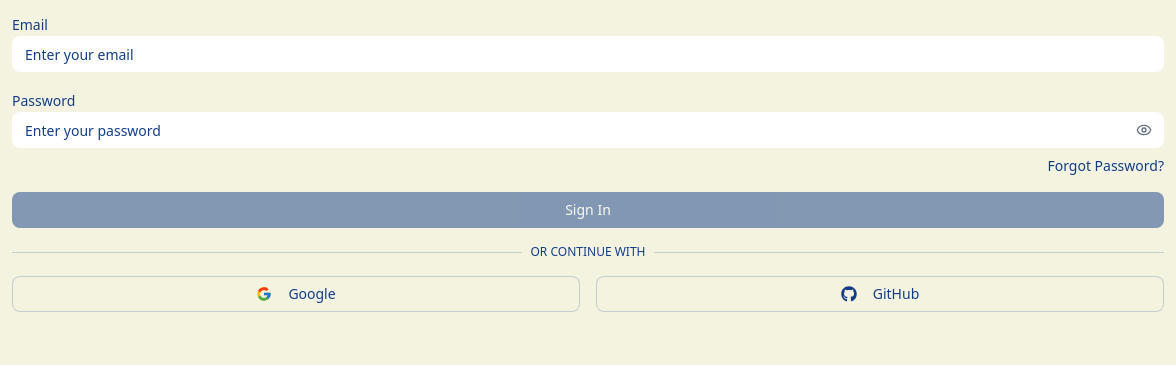
Test: LoginForm Component › failed login displays error message
Type "test@example.com" into the field with placeholder "Enter your email". click: (588, 54)
box: [12,36,1164,72]
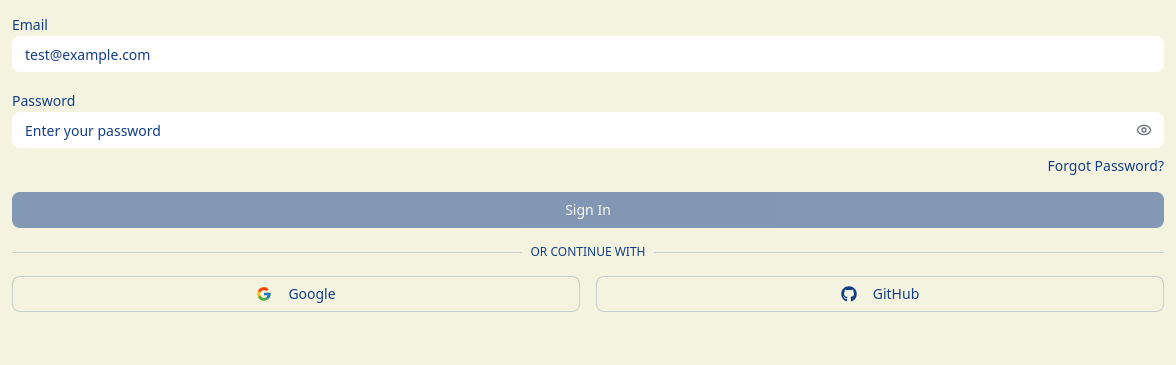
Type "wrongpassword" into the password field with placeholder "Enter your password". click: (588, 130)
box: [12,112,1164,148]
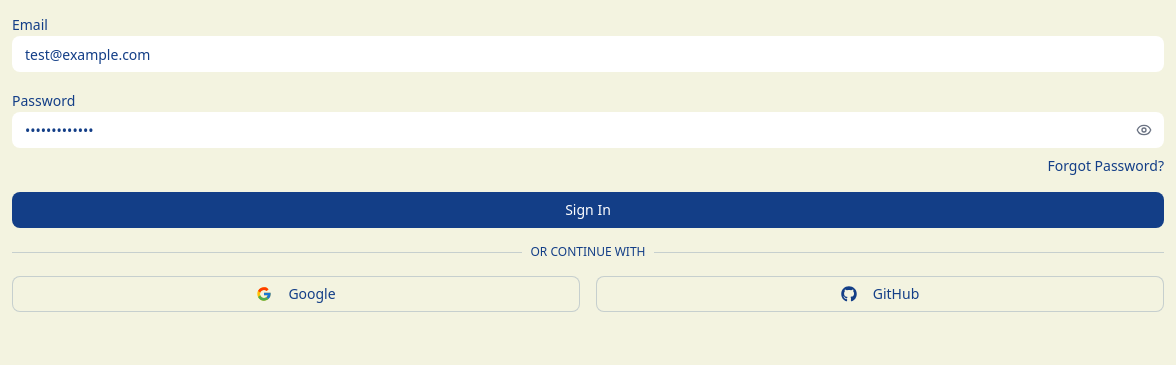
Click the button "Sign In". click: (588, 210)
box: [12,192,1164,228]
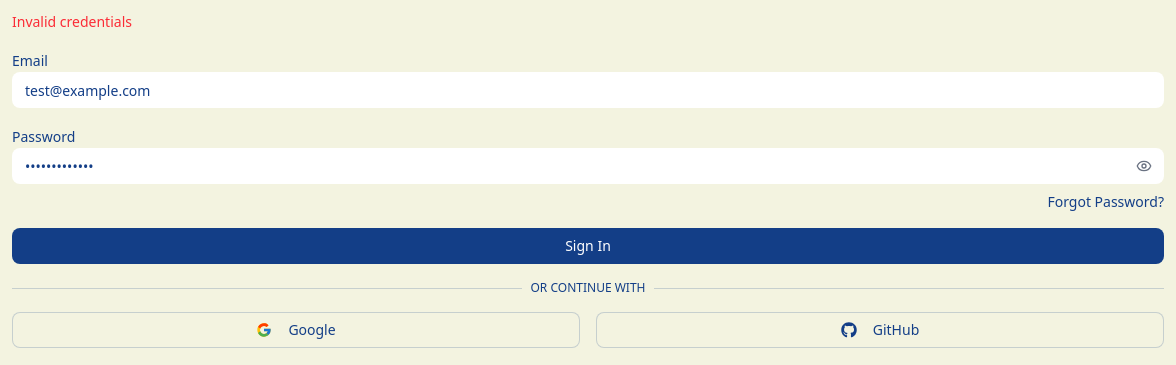
Expected: the text "Invalid credentials" is shown, [12,12,132,31]
